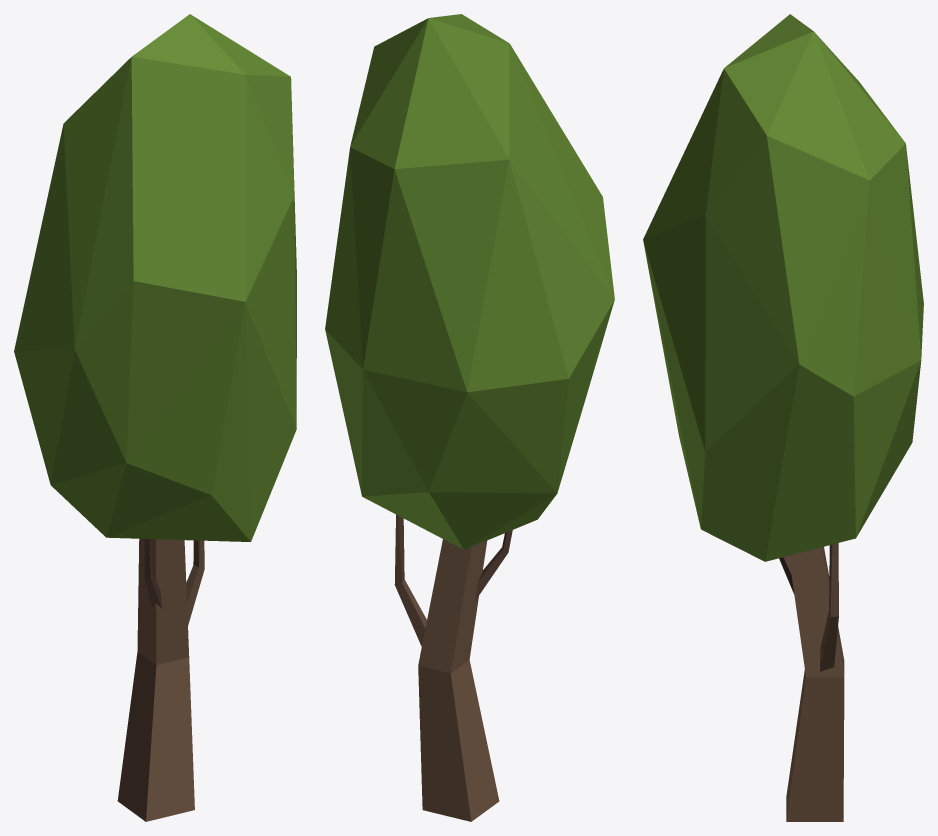
File: tree_9.fbx
3 views of the same model, side by side, from view 1: azimuth 30°, elevation 25°; view 2: azimuth 150°, elevation 25°; view 3: azimuth 270°, elevation 25° (orthographic). The views are drawn at different scales.
Visible parts, largest first — view 1: tree_9; view 2: tree_9; view 3: tree_9.
Boxes of the visible parts, box(x1,y1,x2,y2) form: tree_9: box(14, 14, 296, 821); tree_9: box(325, 14, 614, 821); tree_9: box(643, 14, 923, 821).
Size of the model in its own units: 304 by 881 by 282.
